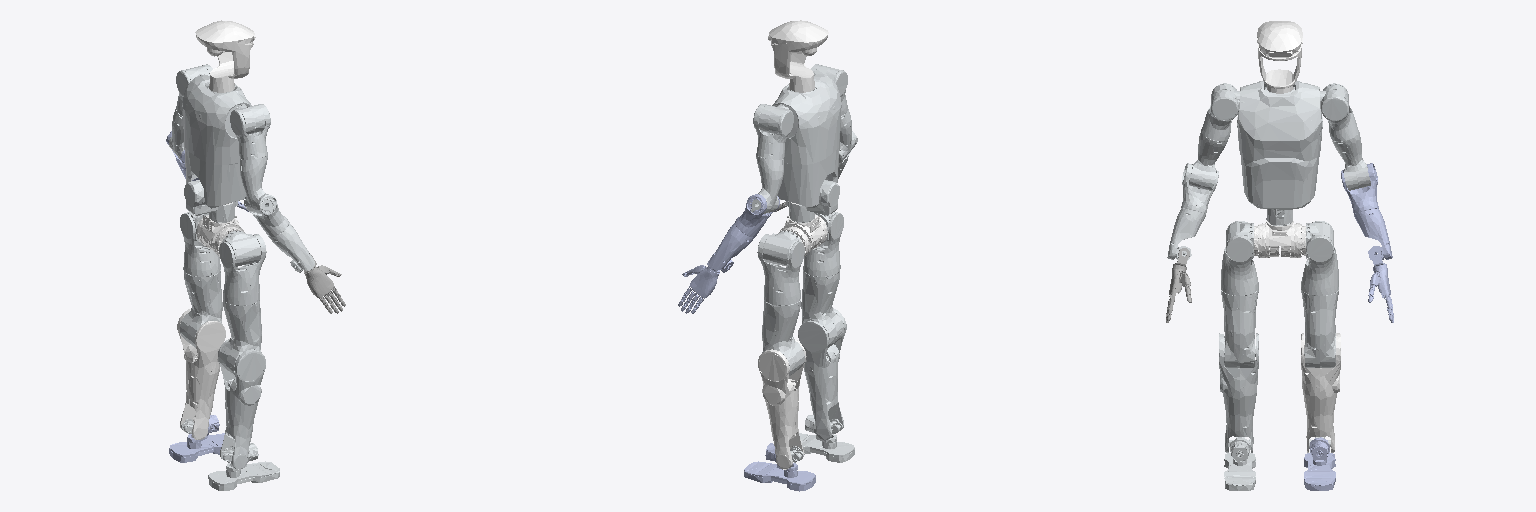
--- Render facts (derived) ---
The picture shows the robot from 3 angles, left to right: view 1: azimuth 30°, elevation 25°; view 2: azimuth 150°, elevation 25°; view 3: azimuth 270°, elevation 25°; orthographic projection.
Model T170-V2.1-A0-mass with 32 links and 31 joints (12 revolute, 19 fixed), rooted at base_link, posed every joint at zero.
Visible links, largest first — view 1: WAIST_P_S, R_KNEE_P_S, L_KNEE_P_S, NECK_Y_S, R_HIP_Y_S, L_HIP_Y_S, R_HIP_R_S, R_ANKLE_R_S, L_HIP_R_S, R_SHOULDER_R_S, L_ANKLE_R_S, R_SHOULDER_Y_S (+7 smaller); view 2: WAIST_P_S, L_KNEE_P_S, R_KNEE_P_S, NECK_Y_S, L_HIP_Y_S, R_HIP_Y_S, L_HIP_R_S, L_ANKLE_R_S, R_HIP_R_S, L_SHOULDER_R_S, R_ANKLE_R_S, L_SHOULDER_Y_S (+7 smaller); view 3: WAIST_P_S, L_KNEE_P_S, R_KNEE_P_S, NECK_Y_S, R_HIP_Y_S, L_HIP_Y_S, L_HIP_R_S, R_HIP_R_S, base_link, R_ANKLE_R_S, L_ANKLE_R_S, R_SHOULDER_R_S (+9 smaller).
Link boxes in pixels (box(x1,y1,x2,y2)): WAIST_P_S: box(182, 74, 253, 208); R_KNEE_P_S: box(218, 339, 265, 469); L_KNEE_P_S: box(177, 309, 225, 439); NECK_Y_S: box(195, 20, 255, 92); R_HIP_Y_S: box(219, 300, 261, 375); L_HIP_Y_S: box(180, 271, 222, 347); R_HIP_R_S: box(219, 234, 266, 305); R_ANKLE_R_S: box(208, 443, 279, 490); L_HIP_R_S: box(180, 213, 220, 276); R_SHOULDER_R_S: box(230, 104, 270, 159); L_ANKLE_R_S: box(169, 415, 224, 462); R_SHOULDER_Y_S: box(240, 155, 272, 213); WAIST_P_S: box(772, 74, 841, 207); L_KNEE_P_S: box(758, 339, 806, 469); R_KNEE_P_S: box(798, 308, 846, 439); NECK_Y_S: box(768, 20, 828, 92); L_HIP_Y_S: box(762, 300, 804, 375); R_HIP_Y_S: box(801, 271, 843, 347); L_HIP_R_S: box(757, 234, 804, 305); L_ANKLE_R_S: box(744, 443, 815, 491); R_HIP_R_S: box(803, 213, 843, 276); L_SHOULDER_R_S: box(753, 104, 793, 159); R_ANKLE_R_S: box(799, 415, 854, 462); L_SHOULDER_Y_S: box(750, 155, 783, 213); WAIST_P_S: box(1237, 81, 1322, 209); L_KNEE_P_S: box(1301, 333, 1340, 452); R_KNEE_P_S: box(1219, 333, 1258, 452); NECK_Y_S: box(1257, 21, 1302, 93); R_HIP_Y_S: box(1221, 290, 1258, 367); L_HIP_Y_S: box(1301, 290, 1338, 367); L_HIP_R_S: box(1301, 221, 1338, 295); R_HIP_R_S: box(1221, 221, 1258, 295); base_link: box(1254, 221, 1305, 257); R_ANKLE_R_S: box(1224, 438, 1255, 490); L_ANKLE_R_S: box(1304, 437, 1335, 490); R_SHOULDER_R_S: box(1201, 83, 1238, 141).
Size in the robot's own frame: 0.4382 by 0.7899 by 1.72 metres.
Meshes: 31 distinct files referenced, 31 mesh visuals loaded (31 binary STL).

robot.urdf — T170-V2.1-A0-mass:
<?xml version="1.0" encoding="utf-8"?>
<!-- This URDF was automatically created by SolidWorks to URDF Exporter! Originally created by Stephen Brawner ([email redacted])
     Commit Version: 1.6.0-4-g7f85cfe  Build Version: 1.6.7995.38578
     For more information, please see http://wiki.ros.org/sw_urdf_exporter -->
<robot
  name="T170-V2.1-A0-mass">
  <link
    name="base_link">
    <inertial>
              <origin
                xyz="-6.500000000000001e-05 1e-06 -0.045045"
                rpy="0 0 0" />
              <mass
                value="5.294303" />
              <inertia
                ixx="0.024433582611999998"
                ixy="1.3235e-07"
                ixz="1.4710277000000001e-05"
                iyy="0.016612578556"
                iyz="-1.68893e-07"
                izz="0.016497152209000002" />
            </inertial>
    <visual>
      <origin
        xyz="0 0 0"

        rpy="0 0 0" />
      <geometry>
        <mesh
          filename="./meshes/BASE_S.STL" />
      </geometry>
      <material
        name="">
        <color
          rgba="1 1 1 1" />
      </material>
    </visual>
    <collision>
      <origin
        xyz="0 0 -0.08"
        rpy="1.57 0 0" />
			<geometry>
				<cylinder length="0.2" radius="0.05"/>
			</geometry>
    </collision>
  </link>

  <link
    name="L_HIP_P_S">
    <inertial>
              <origin
                xyz="0.012891999999999999 0.041366999999999994 1e-06"
                rpy="0 0 0" />
              <mass
                value="1.60224" />
              <inertia
                ixx="0.002350403566"
                ixy="-7.038434699999999e-05"
                ixz="1.8192000000000002e-08"
                iyy="0.0026586781120000002"
                iyz="5.7659e-08"
                izz="0.0023079587030000004" />
            </inertial>
    <visual>
      <origin
        xyz="0 0 0"
        rpy="0 0 0" />
      <geometry>
        <mesh
          filename="./meshes/L_HIP_P_S.STL" />
      </geometry>
      <material
        name="">
        <color
          rgba="0.898039215686275 0.917647058823529 0.929411764705882 1" />
      </material>
    </visual>
    <!--<collision>
      <origin
        xyz="0 0 0"
        rpy="0 0 0" />
      <geometry>
        <mesh
          filename="./meshes/L_HIP_P_S.STL" />
      </geometry>
    </collision>-->
  </link>
  <joint
    name="L_HIP_P"
    type="revolute">
    <origin
      xyz="0 0.0945 -0.067"
      rpy="0 0 0" />
    <parent
      link="base_link" />
    <child
      link="L_HIP_P_S" />
    <axis
      xyz="0 1 0" />
    <limit
      lower="-1"
      upper="0.5"
      effort="267"
      velocity="5.76" />
  </joint>
  <link
    name="L_HIP_R_S">
    <inertial>
              <origin
                xyz="-0.052494 0.001116 -0.135556"
                rpy="0 0 0" />
              <mass
                value="2.123182" />
              <inertia
                ixx="0.007651730159"
                ixy="-1.0006102999999999e-05"
                ixz="-0.001027271998"
                iyy="0.008350014866"
                iyz="-0.00015041607399999998"
                izz="0.003346951658" />
            </inertial>
    <visual>
      <origin
        xyz="0 0 0"
        rpy="0 0 0" />
      <geometry>
        <mesh
          filename="./meshes/L_HIP_R_S.STL" />
      </geometry>
      <material
        name="">
        <color
          rgba="0.898039215686275 0.917647058823529 0.929411764705882 1" />
      </material>
    </visual>
    <!--<collision>
      <origin
        xyz="0 0 0"
        rpy="0 0 0" />
      <geometry>
        <mesh
          filename="./meshes/L_HIP_R_S.STL" />
      </geometry>
    </collision>-->
  </link>
  <joint
    name="L_HIP_R"
    type="revolute">
    <origin
      xyz="0.058 0.044 0"
      rpy="0 0 0" />
    <parent
      link="L_HIP_P_S" />
    <child
      link="L_HIP_R_S" />
    <axis
      xyz="1 0 0" />
    <limit
      lower="-0.2"
      upper="0.2"
      effort="69"
      velocity="8.06" />
  </joint>
  <link
    name="L_HIP_Y_S">
    <inertial>
              <origin
                xyz="0.001701 0.007194 -0.198857"
                rpy="0 0 0" />
              <mass
                value="3.313186" />
              <inertia
                ixx="0.017727672841"
                ixy="-6.456893699999999e-05"
                ixz="-0.000408727743"
                iyy="0.018146293801"
                iyz="-0.00033327960600000004"
                izz="0.006599402896" />
            </inertial>
    <visual>
      <origin
        xyz="0 0 0"
        rpy="0 0 0" />
      <geometry>
        <mesh
          filename="./meshes/L_HIP_Y_S.STL" />
      </geometry>
      <material
        name="">
        <color
          rgba="0.898039215686275 0.917647058823529 0.929411764705882 1" />
      </material>
    </visual>
    <collision>
      <origin
        xyz="0 0.0 -0.05"
        rpy="0 0 0" />
			<geometry>
				<cylinder length="0.2" radius="0.05"/>
			</geometry>
    </collision>
  </link>
  <joint
    name="L_HIP_Y"
    type="revolute">
    <origin
      xyz="-0.058 0 -0.1972"
      rpy="0 0 0" />
    <parent
      link="L_HIP_R_S" />
    <child
      link="L_HIP_Y_S" />
    <axis
      xyz="0 0 -1" />
    <limit
      lower="-0.1"
      upper="0.1"
      effort="121"
      velocity="6.81" />
  </joint>
  <link
    name="L_KNEE_P_S">
    <inertial>
              <origin
                xyz="0.000631 -0.043392 -0.119632"
                rpy="0 0 0" />
              <mass
                value="2.644024" />
              <inertia
                ixx="0.025178069248"
                ixy="-6.2763632e-05"
                ixz="-0.00159828665"
                iyy="0.023717199600000002"
                iyz="-0.00031968927500000005"
                izz="0.006274894778" />
            </inertial>
    <visual>
      <origin
        xyz="0 0 0"
        rpy="0 0 0" />
      <geometry>
        <mesh
          filename="./meshes/L_KNEE_P_S.STL" />
      </geometry>
      <material
        name="">
        <color
          rgba="1 1 1 1" />
      </material>
    </visual>
    <collision>
      <origin
        xyz="0 -0.05 -0.15"
        rpy="0 0 0" />
			<geometry>
				<cylinder length="0.2" radius="0.05"/>
			</geometry>
    </collision>
  </link>
  <joint
    name="L_KNEE_P"
    type="revolute">
    <origin
      xyz="0 0.057 -0.2228"
      rpy="0 0 0" />
    <parent
      link="L_HIP_Y_S" />
    <child
      link="L_KNEE_P_S" />
    <axis
      xyz="0 1 0" />
    <limit
      lower="-0.2"
      upper="1.5"
      effort="267"
      velocity="5.76" />
  </joint>
  <link
    name="L_ANKLE_P_S">
    <inertial>
              <origin
                xyz="-0.0051920000000000004 -0.003552 0.001356"
                rpy="0 0 0" />
              <mass
                value="0.208363" />
              <inertia
                ixx="0.000112416441"
                ixy="1.092665e-06"
                ixz="7.950015000000001e-06"
                iyy="7.9570327e-05"
                iyz="-2.66666e-07"
                izz="0.00015223668599999998" />
            </inertial>
    <visual>
      <origin
        xyz="0 0 0"
        rpy="0 0 0" />
      <geometry>
        <mesh
          filename="./meshes/L_ANKLE_P_S.STL" />
      </geometry>
      <material
        name="">
        <color
          rgba="0.898039215686275 0.917647058823529 0.929411764705882 1" />
      </material>
    </visual>
    <!--<collision>
      <origin
        xyz="0 0 0"
        rpy="0 0 0" />
      <geometry>
        <mesh
          filename="./meshes/L_ANKLE_P_S.STL" />
      </geometry>
    </collision>-->
  </link>
  <joint
    name="L_ANKLE_P"
    type="revolute">
    <origin
      xyz="-0.032248 -0.058 -0.36859"
      rpy="0 0 0" />
    <parent
      link="L_KNEE_P_S" />
    <child
      link="L_ANKLE_P_S" />
    <axis
      xyz="0 -1 0" />
    <limit
      lower="-0.2"
      upper="0.2"
      effort="69"
      velocity="8.06" />
  </joint>
  <link
    name="L_ANKLE_R_S">
    <inertial>
              <origin
                xyz="0.016272 2e-06 -0.054217"
                rpy="0 0 0" />
              <mass
                value="1.670521" />
              <inertia
                ixx="0.0034800322570000004"
                ixy="1.9162e-07"
                ixz="-0.000268219044"
                iyy="0.008485757659"
                iyz="1.3101000000000001e-08"
                izz="0.006910381204" />
            </inertial>
    <visual>
      <origin
        xyz="0 0 0"
        rpy="0 0 0" />
      <geometry>
        <mesh
          filename="./meshes/L_ANKLE_R_S.STL" />
      </geometry>
      <material
        name="">
        <color
          rgba="0.792156862745098 0.819607843137255 0.933333333333333 1" />
      </material>
    </visual>
    <!--<collision>
      <origin
        xyz="0 0 0"
        rpy="0 0 0" />
      <geometry>
        <mesh
          filename="./meshes/L_ANKLE_R_S.STL" />
      </geometry>
    </collision>-->

    <collision>
      <origin
        xyz="0.02 0 -0.08"
        rpy="0 0 0" />
      <geometry>
        <box size="0.24 0.11 0.03"/>
      </geometry>
    </collision>

  </link>
  <joint
    name="L_ANKLE_R"
    type="revolute">
    <origin
      xyz="0.023 0 0"
      rpy="0 0 0" />
    <parent
      link="L_ANKLE_P_S" />
    <child
      link="L_ANKLE_R_S" />
    <axis
      xyz="1 0 0" />
    <limit
      lower="-0.2"
      upper="0.2"
      effort="23"
      velocity="10.16" />
  </joint>
  <link
    name="R_HIP_P_S">
    <inertial>
              <origin
                xyz="0.012891999999999999 -0.041366999999999994 1e-06"
                rpy="0 0 0" />
              <mass
                value="1.602236" />
              <inertia
                ixx="0.002350387347"
                ixy="7.0386011e-05"
                ixz="2.08997e-07"
                iyy="0.002658669353"
                iyz="-5.7559e-08"
                izz="0.002307962669" />
            </inertial>
    <visual>
      <origin
        xyz="0 0 0"
        rpy="0 0 0" />
      <geometry>
        <mesh
          filename="./meshes/R_HIP_P_S.STL" />
      </geometry>
      <material
        name="">
        <color
          rgba="0.898039215686275 0.917647058823529 0.929411764705882 1" />
      </material>
    </visual>
    <!--<collision>
      <origin
        xyz="0 0 0"
        rpy="0 0 0" />
      <geometry>
        <mesh
          filename="./meshes/R_HIP_P_S.STL" />
      </geometry>
    </collision>-->
  </link>
  <joint
    name="R_HIP_P"
    type="revolute">
    <origin
      xyz="0 -0.0945 -0.067"
      rpy="0 0 0" />
    <parent
      link="base_link" />
    <child
      link="R_HIP_P_S" />
    <axis
      xyz="0 -1 0" />
    <limit
      lower="-0.5"
      upper="1"
      effort="267"
      velocity="5.76" />
  </joint>
  <link
    name="R_HIP_R_S">
    <inertial>
              <origin
                xyz="-0.052494 -0.001116 -0.135556"
                rpy="0 0 0" />
              <mass
                value="2.123172" />
              <inertia
                ixx="0.007651678789"
                ixy="9.966719e-06"
                ixz="-0.001027351346"
                iyy="0.008350089033"
                iyz="0.000150362603"
                izz="0.00334698021" />
            </inertial>
    <visual>
      <origin
        xyz="0 0 0"
        rpy="0 0 0" />
      <geometry>
        <mesh
          filename="./meshes/R_HIP_R_S.STL" />
      </geometry>
      <material
        name="">
        <color
          rgba="0.898039215686275 0.917647058823529 0.929411764705882 1" />
      </material>
    </visual>
    <!--<collision>
      <origin
        xyz="0 0 0"
        rpy="0 0 0" />
      <geometry>
        <mesh
          filename="./meshes/R_HIP_R_S.STL" />
      </geometry>
    </collision>-->
  </link>
  <joint
    name="R_HIP_R"
    type="revolute">
    <origin
      xyz="0.058 -0.044 0"
      rpy="0 0 0" />
    <parent
      link="R_HIP_P_S" />
    <child
      link="R_HIP_R_S" />
    <axis
      xyz="-1 0 0" />
    <limit
      lower="-0.2"
      upper="0.2"
      effort="69"
      velocity="8.06" />
  </joint>
  <link
    name="R_HIP_Y_S">
    <inertial>
              <origin
                xyz="0.001702 -0.007193 -0.198851"
                rpy="0 0 0" />
              <mass
                value="3.313288" />
              <inertia
                ixx="0.017731261837000002"
                ixy="6.415347800000001e-05"
                ixz="-0.000409299561"
                iyy="0.018149824549"
                iyz="0.000332521739"
                izz="0.006599775929" />
            </inertial>
    <visual>
      <origin
        xyz="0 0 0"
        rpy="0 0 0" />
      <geometry>
        <mesh
          filename="./meshes/R_HIP_Y_S.STL" />
      </geometry>
      <material
        name="">
        <color
          rgba="0.898039215686275 0.917647058823529 0.929411764705882 1" />
      </material>
    </visual>
    <collision>
      <origin
        xyz="0 0.0 -0.05"
        rpy="0 0 0" />
			<geometry>
				<cylinder length="0.2" radius="0.05"/>
			</geometry>
    </collision>
  </link>
  <joint
    name="R_HIP_Y"
    type="revolute">
    <origin
      xyz="-0.058 0 -0.1972"
      rpy="0 0 0" />
    <parent
      link="R_HIP_R_S" />
    <child
      link="R_HIP_Y_S" />
    <axis
      xyz="0 0 -1" />
    <limit
      lower="-0.1"
      upper="0.1"
      effort="121"
      velocity="6.81" />
  </joint>
  <link
    name="R_KNEE_P_S">
    <inertial>
              <origin
                xyz="0.0006360000000000001 0.04339 -0.119639"
                rpy="0 0 0" />
              <mass
                value="2.644373" />
              <inertia
                ixx="0.025184545238"
                ixy="6.2682668e-05"
                ixz="-0.001598721426"
                iyy="0.023724867226"
                iyz="0.000318879433"
                izz="0.006275270264" />
            </inertial>
    <visual>
      <origin
        xyz="0 0 0"
        rpy="0 0 0" />
      <geometry>
        <mesh
          filename="./meshes/R_KNEE_P_S.STL" />
      </geometry>
      <material
        name="">
        <color
          rgba="0.898039215686275 0.917647058823529 0.929411764705882 1" />
      </material>
    </visual>
    <collision>
      <origin
        xyz="0 0.05 -0.15"
        rpy="0 0 0" />
			<geometry>
				<cylinder length="0.2" radius="0.05"/>
			</geometry>
    </collision>
  </link>
  <joint
    name="R_KNEE_P"
    type="revolute">
    <origin
      xyz="0 -0.057 -0.2228"
      rpy="0 0 0" />
    <parent
      link="R_HIP_Y_S" />
    <child
      link="R_KNEE_P_S" />
    <axis
      xyz="0 -1 0" />
    <limit
      lower="-1.5"
      upper="0.2"
      effort="267"
      velocity="5.76" />
  </joint>
  <link
    name="R_ANKLE_P_S">
    <inertial>
              <origin
                xyz="-0.005285 0.0029 0.00138"
                rpy="0 0 0" />
              <mass
                value="0.20469900000000002" />
              <inertia
                ixx="0.000106648193"
                ixy="-3.86891e-07"
                ixz="7.923754e-06"
                iyy="7.7879228e-05"
                iyz="8.2406e-08"
                izz="0.00014637474900000002" />
            </inertial>
    <visual>
      <origin
        xyz="0 0 0"
        rpy="0 0 0" />
      <geometry>
        <mesh
          filename="./meshes/R_ANKLE_P_S.STL" />
      </geometry>
      <material
        name="">
        <color
          rgba="0.898039215686275 0.917647058823529 0.929411764705882 1" />
      </material>
    </visual>
    <!--<collision>
      <origin
        xyz="0 0 0"
        rpy="0 0 0" />
      <geometry>
        <mesh
          filename="./meshes/R_ANKLE_P_S.STL" />
      </geometry>
    </collision>-->
  </link>
  <joint
    name="R_ANKLE_P"
    type="revolute">
    <origin
      xyz="-0.032248 0.058 -0.36859"
      rpy="0 0 0" />
    <parent
      link="R_KNEE_P_S" />
    <child
      link="R_ANKLE_P_S" />
    <axis
      xyz="0 1 0" />
    <limit
      lower="-0.2"
      upper="0.2"
      effort="69"
      velocity="8.06" />
  </joint>
  <link
    name="R_ANKLE_R_S">
    <inertial>
              <origin
                xyz="0.016272 -2e-06 -0.054217"
                rpy="0 0 0" />
              <mass
                value="1.67052" />
              <inertia
                ixx="0.003480032579"
                ixy="-1.91673e-07"
                ixz="-0.00026821871500000004"
                iyy="0.00848575142"
                iyz="-1.399e-08"
                izz="0.00691037666" />
            </inertial>
    <visual>
      <origin
        xyz="0 0 0"
        rpy="0 0 0" />
      <geometry>
        <mesh
          filename="./meshes/R_ANKLE_R_S.STL" />
      </geometry>
      <material
        name="">
        <color
          rgba="0.898039215686275 0.917647058823529 0.929411764705882 1" />
      </material>
    </visual>
    <!--<collision>
      <origin
        xyz="0 0 0"
        rpy="0 0 0" />
      <geometry>
        <mesh
          filename="./meshes/R_ANKLE_R_S.STL" />
      </geometry>
    </collision>-->


    <collision>
      <origin
        xyz="0.02 0 -0.08"
        rpy="0 0 0" />
      <geometry>
        <box size="0.24 0.11 0.03"/>
      </geometry>
    </collision>
  </link>
  <joint
    name="R_ANKLE_R"
    type="revolute">
    <origin
      xyz="0.023 0 0"
      rpy="0 0 0" />
    <parent
      link="R_ANKLE_P_S" />
    <child
      link="R_ANKLE_R_S" />
    <axis
      xyz="1 0 0" />
    <limit
      lower="-0.2"
      upper="0.2"
      effort="23"
      velocity="10.16" />
  </joint>
  <link
    name="WAIST_Y_S">
    <inertial>
              <origin
                xyz="-0.070117 0.0 0.109774"
                rpy="0 0 0" />
              <mass
                value="1.49971" />
              <inertia
                ixx="0.002892639151"
                ixy="-6.4603e-08"
                ixz="0.0011632690249999999"
                iyy="0.005042794342"
                iyz="1.3865e-08"
                izz="0.003666403193" />
            </inertial>
    <visual>
      <origin
        xyz="0 0 0"
        rpy="0 0 0" />
      <geometry>
        <mesh
          filename="./meshes/WAIST_Y_S.STL" />
      </geometry>
      <material
        name="">
        <color
          rgba="0.898039215686275 0.917647058823529 0.929411764705882 1" />
      </material>
    </visual>
    <!--<collision>
      <origin
        xyz="0 0 0"
        rpy="0 0 0" />
      <geometry>
        <mesh
          filename="./meshes/WAIST_Y_S.STL" />
      </geometry>
    </collision>-->
  </link>
  <joint
    name="WAIST_Y"
    type="fixed">
    <origin
      xyz="0 0 0"
      rpy="0 0 0" />
    <parent
      link="base_link" />
    <child
      link="WAIST_Y_S" />
    <axis
      xyz="0 0 1" />
    <limit
      lower="-3.14"
      upper="3.14"
      effort="63"
      velocity="8.06" />
  </joint>
  <link
    name="WAIST_R_S">
    <inertial>
              <origin
                xyz="0.047638 0.0060609999999999995 0.0"
                rpy="0 0 0" />
              <mass
                value="1.3648900000000002" />
              <inertia
                ixx="0.0013838946489999999"
                ixy="-1.4820964e-05"
                ixz="1.2329e-08"
                iyy="0.001586091616"
                iyz="6.57485e-07"
                izz="0.001453676082" />
            </inertial>
    <visual>
      <origin
        xyz="0 0 0"
        rpy="0 0 0" />
      <geometry>
        <mesh
          filename="./meshes/WAIST_R_S.STL" />
      </geometry>
      <material
        name="">
        <color
          rgba="0.898039215686275 0.917647058823529 0.929411764705882 1" />
      </material>
    </visual>
    <!--<collision>
      <origin
        xyz="0 0 0"
        rpy="0 0 0" />
      <geometry>
        <mesh
          filename="./meshes/WAIST_R_S.STL" />
      </geometry>
    </collision>-->
  </link>
  <joint
    name="WAIST_R"
    type="fixed">
    <origin
      xyz="-0.0495 0 0.127"
      rpy="0 0 0" />
    <parent
      link="WAIST_Y_S" />
    <child
      link="WAIST_R_S" />
    <axis
      xyz="1 0 0" />
    <limit
      lower="-0.61"
      upper="0.61"
      effort="63"
      velocity="8.06" />
  </joint>
  <link
    name="WAIST_P_S">
    <inertial>
              <origin
                xyz="0.00211 -0.046560000000000004 0.245727"
                rpy="0 0 0" />
              <mass
                value="11.080885" />
              <inertia
                ixx="0.11949464686200001"
                ixy="-5.1488261e-05"
                ixz="0.0020396562460000003"
                iyy="0.08538231980699999"
                iyz="2.4585865000000002e-05"
                izz="0.065471635027" />
            </inertial>
    <visual>
      <origin
        xyz="0 0 0"
        rpy="0 0 0" />
      <geometry>
        <mesh
          filename="./meshes/WAIST_P_S.STL" />
      </geometry>
      <material
        name="">
        <color
          rgba="0.898039215686275 0.917647058823529 0.929411764705882 1" />
      </material>
    </visual>
    <collision>
      <origin
        xyz="0 0 0"
        rpy="0 0 0" />
      <geometry>
        <mesh
          filename="./meshes/WAIST_P_S.STL" />
      </geometry>
    </collision>
  </link>
  <joint
    name="WAIST_P"
    type="fixed">
    <origin
      xyz="0.0495 0.0465 0"
      rpy="0 0 0" />
    <parent
      link="WAIST_R_S" />
    <child
      link="WAIST_P_S" />
    <axis
      xyz="0 1 0" />
    <limit
      lower="-0.244"
      upper="0.523"
      effort="63"
      velocity="8.06" />
  </joint>
  <link
    name="L_SHOULDER_P_S">
    <inertial>
              <origin
                xyz="0.011526 0.059677999999999995 0.0"
                />
              <mass
                value="1.444881" />
              <inertia
                ixx="0.001949609421"
                ixy="-9.1641714e-05"
                ixz="3.02e-09"
                iyy="0.0015971993259999999"
                iyz="2.784e-09"
                izz="0.001979001997" />
            </inertial>
    <visual>
      <origin
        xyz="0 0 0"
        />
      <geometry>
        <mesh
          filename="./meshes/L_SHOULDER_P_S.STL" />
      </geometry>
      <material
        name="">
        <color
          rgba="0.898039215686275 0.917647058823529 0.929411764705882 1" />
      </material>
    </visual>
    <!--<collision>
      <origin
        xyz="0 0 0"
        rpy="0 0 0" />
      <geometry>
        <mesh
          filename="./meshes/L_SHOULDER_P_S.STL" />
      </geometry>
    </collision>-->
  </link>
  <joint
    name="L_SHOULDER_P"
    type="fixed">
    <origin
      xyz="0.0005 0.0775 0.336"
      />
    <parent
      link="WAIST_P_S" />
    <child
      link="L_SHOULDER_P_S" />
    <axis
      xyz="0 1 0" />
    <limit
      lower="-3.14"
      upper="3.14"
      effort="63"
      velocity="8.06" />
  </joint>
  <link
    name="L_SHOULDER_R_S">
    <inertial>
              <origin
                xyz="-0.050103 0.088587 0.000207"
                />
              <mass
                value="1.014451" />
              <inertia
                ixx="0.002349561045"
                ixy="0.000320579472"
                ixz="1.414894e-06"
                iyy="0.0011315652760000002"
                iyz="1.6244966e-05"
                izz="0.002633113913" />
            </inertial>
    <visual>
      <origin
        xyz="0 0 0"
         />
      <geometry>
        <mesh
          filename="./meshes/L_SHOULDER_R_S.STL" />
      </geometry>
      <material
        name="">
        <color
          rgba="0.898039215686275 0.917647058823529 0.929411764705882 1" />
      </material>
    </visual>
    <!--<collision>
      <origin
        xyz="0 0 0"
        rpy="0 0 0" />
      <geometry>
        <mesh
          filename="./meshes/L_SHOULDER_R_S.STL" />
      </geometry>
    </collision>-->
  </link>
  <joint
    name="L_SHOULDER_R"
    type="fixed">
    <origin
      xyz="0.054 0.066 0"
      rpy="-1.3 0 0" />
    <parent
      link="L_SHOULDER_P_S" />
    <child
      link="L_SHOULDER_R_S" />
    <axis
      xyz="1 0 0" />
    <limit
      lower="-1.57"
      upper="1.57"
      effort="63"
      velocity="8.06" />
  </joint>
  <link
    name="L_SHOULDER_Y_S">
    <inertial>
              <origin
                xyz="-0.002242 0.128183 0.013930999999999999"
                 />
              <mass
                value="1.09809" />
              <inertia
                ixx="0.0043556597410000005"
                ixy="-0.00014642066000000002"
                ixz="-2.0792439999999997e-05"
                iyy="0.001024987862"
                iyz="-0.000155152164"
                izz="0.00415956279" />
            </inertial>
    <visual>
      <origin
        xyz="0 0 0"
         />
      <geometry>
        <mesh
          filename="./meshes/L_SHOULDER_Y_S.STL" />
      </geometry>
      <material
        name="">
        <color
          rgba="0.898039215686275 0.917647058823529 0.929411764705882 1" />
      </material>
    </visual>
    <!--<collision>
      <origin
        xyz="0 0 0"
        rpy="0 0 0" />
      <geometry>
        <mesh
          filename="./meshes/L_SHOULDER_Y_S.STL" />
      </geometry>
    </collision>-->
  </link>
  <joint
    name="L_SHOULDER_Y"
    type="fixed">
    <origin
      xyz="-0.054 0.1395 0"
      />
    <parent
      link="L_SHOULDER_R_S" />
    <child
      link="L_SHOULDER_Y_S" />
    <axis
      xyz="0 1 0" />
    <limit
      lower="-3.14"
      upper="3.14"
      effort="42"
      velocity="8.59" />
  </joint>
  <link
    name="L_ELBOW_Y_S">
    <inertial>
              <origin
                xyz="-0.000772 0.079344 -0.047655"
                 />
              <mass
                value="0.71509" />
              <inertia
                ixx="0.0015319294410000002"
                ixy="-2.9833332999999998e-05"
                ixz="-1.601666e-06"
                iyy="0.0008379935259999999"
                iyz="0.00011718606699999999"
                izz="0.001338291607" />
            </inertial>
    <visual>
      <origin
        xyz="0 0 0"
         />
      <geometry>
        <mesh
          filename="./meshes/L_ELBOW_Y_S.STL" />
      </geometry>
      <material
        name="">
        <color
          rgba="0.792156862745098 0.819607843137255 0.933333333333333 1" />
      </material>
    </visual>
    <collision>
      <origin
        xyz="0 0 0"
        />
      <geometry>
        <mesh
          filename="./meshes/L_ELBOW_Y_S.STL" />
      </geometry>
    </collision>
  </link>
  <joint
    name="L_ELBOW_Y"
    type="fixed">
    <origin
      xyz="0 0.1605 0.051"
      rpy="0 0 -0.5" />
    <parent
      link="L_SHOULDER_Y_S" />
    <child
      link="L_ELBOW_Y_S" />
    <axis
      xyz="0 0 1" />
    <limit
      lower="-2.4"
      upper="0.87"
      effort="42"
      velocity="8.59" />
  </joint>
  <link
    name="L_WRIST_P_S">
    <inertial>
              <origin
                xyz="-2e-05 0.051770000000000004 0.015054"
                 />
              <mass
                value="0.787608" />
              <inertia
                ixx="0.0018731701289999999"
                ixy="2.748841e-06"
                ixz="3.4995299999999996e-07"
                iyy="0.000729715644"
                iyz="-0.000416873988"
                izz="0.001676076534" />
            </inertial>
    <visual>
      <origin
        xyz="0 0 0"
        />
      <geometry>
        <mesh
          filename="./meshes/L_WRIST_P_S.STL" />
      </geometry>
      <material
        name="">
        <color
          rgba="0.792156862745098 0.819607843137255 0.933333333333333 1" />
      </material>
    </visual>
    <!--<collision>
      <origin
        xyz="0 0 0"
        rpy="0 0 0" />
      <geometry>
        <mesh
          filename="./meshes/L_WRIST_P_S.STL" />
      </geometry>
    </collision>-->
  </link>
  <joint
    name="L_WRIST_P"
    type="fixed">
    <origin
      xyz="0 0.1281 -0.051"
      />
    <parent
      link="L_ELBOW_Y_S" />
    <child
      link="L_WRIST_P_S" />
    <axis
      xyz="0 1 0" />
    <limit
      lower="-3.14"
      upper="3.14"
      effort="23"
      velocity="10.16" />
  </joint>
  <link
    name="L_WRIST_Y_S">
    <inertial>
              <origin
                xyz="-0.0007840000000000001 0.00022600000000000002 -0.037801"
                 />
              <mass
                value="0.38146199999999997" />
              <inertia
                ixx="0.000182718093"
                ixy="1.6518999999999999e-07"
                ixz="-9.57867e-07"
                iyy="0.00021651213"
                iyz="-4.338e-08"
                izz="0.000172529454" />
            </inertial>
    <visual>
      <origin
        xyz="0 0 0"
        />
      <geometry>
        <mesh
          filename="./meshes/L_WRIST_Y_S.STL" />
      </geometry>
      <material
        name="">
        <color
          rgba="0.792156862745098 0.819607843137255 0.933333333333333 1" />
      </material>
    </visual>
    <!--<collision>
      <origin
        xyz="0 0 0"
        rpy="0 0 0" />
      <geometry>
        <mesh
          filename="./meshes/L_WRIST_Y_S.STL" />
      </geometry>
    </collision>-->
  </link>
  <joint
    name="L_WRIST_Y"
    type="fixed">
    <origin
      xyz="9.0984E-05 0.14468 0.0425"
       />
    <parent
      link="L_WRIST_P_S" />
    <child
      link="L_WRIST_Y_S" />
    <axis
      xyz="0 0 1" />
    <limit
      lower="-0.69"
      upper="0.69"
      effort="8.3"
      velocity="12.36" />
  </joint>
  <link
    name="L_WRIST_R_S">
    <inertial>
              <origin
                xyz="-0.011640000000000001 0.118483 -0.0036030000000000003"
                />
              <mass
                value="0.553221" />
              <inertia
                ixx="0.001536982549"
                ixy="8.1942823e-05"
                ixz="0.000146124869"
                iyy="0.000603820302"
                iyz="4.045243e-06"
                izz="0.001875863069" />
            </inertial>
    <visual>
      <origin
        xyz="0 0 0"
         />
      <geometry>
        <mesh
          filename="./meshes/L_WRIST_R_S.STL" />
      </geometry>
      <material
        name="">
        <color
          rgba="0.792156862745098 0.819607843137255 0.933333333333333 1" />
      </material>
    </visual>
    <!--<collision>
      <origin
        xyz="0 0 0"
        rpy="0 0 0" />
      <geometry>
        <mesh
          filename="./meshes/L_WRIST_R_S.STL" />
      </geometry>
    </collision>-->

    <collision>
      <origin
        xyz="0 0.2 0"
        />
      <geometry>
        <box size="0.08 0.1 0.05"/>
      </geometry>
    </collision>

  </link>
  <joint
    name="L_WRIST_R"
    type="fixed">
    <origin
      xyz="0.030909 0.00022307 -0.0415"
      rpy="0 0 0" />
    <parent
      link="L_WRIST_Y_S" />
    <child
      link="L_WRIST_R_S" />
    <axis
      xyz="1 0 0" />
    <limit
      lower="-2.35"
      upper="0.348"
      effort="8.3"
      velocity="12.36" />
  </joint>
  <link
    name="R_SHOULDER_P_S">
    <inertial>
              <origin
                xyz="0.010619 -0.059179 0"
                />
              <mass
                value="1.4546679999999999" />
              <inertia
                ixx="0.001954186556"
                ixy="8.813481600000001e-05"
                ixz="-5.440000000000001e-10"
                iyy="0.0016309633759999998"
                iyz="1.352e-09"
                izz="0.002013157615" />
            </inertial>
    <visual>
      <origin
        xyz="0 0 0"
        />
      <geometry>
        <mesh
          filename="./meshes/R_SHOULDER_P_S.STL" />
      </geometry>
      <material
        name="">
        <color
          rgba="0.898039215686275 0.917647058823529 0.929411764705882 1" />
      </material>
    </visual>
    <!--<collision>
      <origin
        xyz="0 0 0"
        rpy="0 0 0" />
      <geometry>
        <mesh
          filename="./meshes/R_SHOULDER_P_S.STL" />
      </geometry>
    </collision>-->
  </link>
  <joint
    name="R_SHOULDER_P"
    type="fixed">
    <origin
      xyz="0.0005 -0.1705 0.336"
       />
    <parent
      link="WAIST_P_S" />
    <child
      link="R_SHOULDER_P_S" />
    <axis
      xyz="0 1 0" />
    <limit
      lower="-3.14"
      upper="3.14"
      effort="63"
      velocity="8.06" />
  </joint>
  <link
    name="R_SHOULDER_R_S">
    <inertial>
              <origin
                xyz="-0.046824 -0.072798 0.000381"
                />
              <mass
                value="1.014496" />
              <inertia
                ixx="0.002349644494"
                ixy="-0.000320589934"
                ixz="1.437102e-06"
                iyy="0.001131637812"
                iyz="-1.6236977e-05"
                izz="0.002633199673" />
            </inertial>
    <visual>
      <origin
        xyz="0 0 0"
        />
      <geometry>
        <mesh
          filename="./meshes/R_SHOULDER_R_S.STL" />
      </geometry>
      <material
        name="">
        <color
          rgba="0.898039215686275 0.917647058823529 0.929411764705882 1" />
      </material>
    </visual>
    <!--<collision>
      <origin
        xyz="0 0 0"
        rpy="0 0 0" />
      <geometry>
        <mesh
          filename="./meshes/R_SHOULDER_R_S.STL" />
      </geometry>
    </collision>-->
  </link>
  <joint
    name="R_SHOULDER_R"
    type="fixed">
    <origin
      xyz="0.054 -0.066 0"
      rpy="1.3 0 0" />
    <parent
      link="R_SHOULDER_P_S" />
    <child
      link="R_SHOULDER_R_S" />
    <axis
      xyz="1 0 0" />
    <limit
      lower="-1.57"
      upper="1.57"
      effort="63"
      velocity="8.06" />
  </joint>
  <link
    name="R_SHOULDER_Y_S">
    <inertial>
              <origin
                xyz="-0.003882 -0.10458 0.010336"
                 />
              <mass
                value="1.098095" />
              <inertia
                ixx="0.004355094775"
                ixy="0.00014650948800000002"
                ixz="-2.0837701e-05"
                iyy="0.00102492432"
                iyz="0.00015511217300000002"
                izz="0.004159196881" />
            </inertial>
    <visual>
      <origin
        xyz="0 0 0"
         />
      <geometry>
        <mesh
          filename="./meshes/R_SHOULDER_Y_S.STL" />
      </geometry>
      <material
        name="">
        <color
          rgba="0.898039215686275 0.917647058823529 0.929411764705882 1" />
      </material>
    </visual>
    <!--<collision>
      <origin
        xyz="0 0 0"
        rpy="0 0 0" />
      <geometry>
        <mesh
          filename="./meshes/R_SHOULDER_Y_S.STL" />
      </geometry>
    </collision>-->
  </link>
  <joint
    name="R_SHOULDER_Y"
    type="fixed">
    <origin
      xyz="-0.054 -0.1395 0"
       />
    <parent
      link="R_SHOULDER_R_S" />
    <child
      link="R_SHOULDER_Y_S" />
    <axis
      xyz="0 1 0" />
    <limit
      lower="-3.14"
      upper="3.14"
      effort="42"
      velocity="8.59" />
  </joint>
  <link
    name="R_ELBOW_Y_S">
    <inertial>
              <origin
                xyz="-0.000784 -0.079077 -0.047592"
                 />
              <mass
                value="0.71504" />
              <inertia
                ixx="0.0015318807949999999"
                ixy="2.9772111e-05"
                ixz="-1.560932e-06"
                iyy="0.000837959623"
                iyz="-0.000117236974"
                izz="0.0013381406899999999" />
            </inertial>
    <visual>
      <origin
        xyz="0 0 0"
        />
      <geometry>
        <mesh
          filename="./meshes/R_ELBOW_Y_S.STL" />
      </geometry>
      <material
        name="">
        <color
          rgba="0.898039215686275 0.917647058823529 0.929411764705882 1" />
      </material>
    </visual>
    <collision>
      <origin
        xyz="0 0 0"
         />
      <geometry>
        <mesh
          filename="./meshes/R_ELBOW_Y_S.STL" />
      </geometry>
    </collision>
  </link>
  <joint
    name="R_ELBOW_Y"
    type="fixed">
    <origin
      xyz="0 -0.1605 0.051"
      rpy="0 0 0.5" />
    <parent
      link="R_SHOULDER_Y_S" />
    <child
      link="R_ELBOW_Y_S" />
    <axis
      xyz="0 0 1" />
    <limit
      lower="-0.87"
      upper="2.4"
      effort="42"
      velocity="8.59" />
  </joint>
  <link
    name="R_WRIST_P_S">
    <inertial>
              <origin
                xyz="0 -0.051437 0.014735"
                />
              <mass
                value="0.7868890000000001" />
              <inertia
                ixx="0.001872273263"
                ixy="-3.080441e-06"
                ixz="2.88905e-07"
                iyy="0.000729272968"
                iyz="0.000417065446"
                izz="0.001675513763" />
            </inertial>
    <visual>
      <origin
        xyz="0 0 0"
        />
      <geometry>
        <mesh
          filename="./meshes/R_WRIST_P_S.STL" />
      </geometry>
      <material
        name="">
        <color
          rgba="0.898039215686275 0.917647058823529 0.929411764705882 1" />
      </material>
    </visual>
    <!--<collision>
      <origin
        xyz="0 0 0"
        rpy="0 0 0" />
      <geometry>
        <mesh
          filename="./meshes/R_WRIST_P_S.STL" />
      </geometry>
    </collision>-->
  </link>
  <joint
    name="R_WRIST_P"
    type="fixed">
    <origin
      xyz="0 -0.1281 -0.051"
       />
    <parent
      link="R_ELBOW_Y_S" />
    <child
      link="R_WRIST_P_S" />
    <axis
      xyz="0 1 0" />
    <limit
      lower="-3.14"
      upper="3.14"
      effort="23"
      velocity="10.16" />
  </joint>
  <link
    name="R_WRIST_Y_S">
    <inertial>
              <origin
                xyz="-0.000915 -0.000224 -0.039334"
                />
              <mass
                value="0.38146199999999997" />
              <inertia
                ixx="0.000182718093"
                ixy="-1.6518999999999999e-07"
                ixz="-9.57867e-07"
                iyy="0.00021651213"
                iyz="4.338e-08"
                izz="0.000172529454" />
            </inertial>
    <visual>
      <origin
        xyz="0 0 0"
        />
      <geometry>
        <mesh
          filename="./meshes/R_WRIST_Y_S.STL" />
      </geometry>
      <material
        name="">
        <color
          rgba="0.898039215686275 0.917647058823529 0.929411764705882 1" />
      </material>
    </visual>
    <!--<collision>
      <origin
        xyz="0 0 0"
        rpy="0 0 0" />
      <geometry>
        <mesh
          filename="./meshes/R_WRIST_Y_S.STL" />
      </geometry>
    </collision>-->
  </link>
  <joint
    name="R_WRIST_Y"
    type="fixed">
    <origin
      xyz="9.0984E-05 -0.14468 0.0425"
       />
    <parent
      link="R_WRIST_P_S" />
    <child
      link="R_WRIST_Y_S" />
    <axis
      xyz="0 0 1" />
    <limit
      lower="-0.69"
      upper="0.69"
      effort="8.3"
      velocity="12.36" />
  </joint>
  <link
    name="R_WRIST_R_S">
    <inertial>
              <origin
                xyz="-0.011723 -0.118518 -0.002744"
                />
              <mass
                value="0.553221" />
              <inertia
                ixx="0.001538629013"
                ixy="-8.0720572e-05"
                ixz="0.000152285311"
                iyy="0.0006011281409999999"
                iyz="6.235099e-06"
                izz="0.001871429419" />
            </inertial>
    <visual>
      <origin
        xyz="0 0 0"
       />
      <geometry>
        <mesh
          filename="./meshes/R_WRIST_R_S.STL" />
      </geometry>
      <material
        name="">
        <color
          rgba="0.752941176470588 0.752941176470588 0.752941176470588 1" />
      </material>
    </visual>
    <!--<collision>
      <origin
        xyz="0 0 0"
        rpy="0 0 0" />
      <geometry>
        <mesh
          filename="./meshes/R_WRIST_R_S.STL" />
      </geometry>
    </collision>-->

    <collision>
      <origin
        xyz="0 -0.2 0"
        />
      <geometry>
        <box size="0.08 0.1 0.05"/>
      </geometry>
    </collision>

  </link>
  <joint
    name="R_WRIST_R"
    type="fixed">
    <origin
      xyz="0.030909 -0.00022307 -0.0415"
       />
    <parent
      link="R_WRIST_Y_S" />
    <child
      link="R_WRIST_R_S" />
    <axis
      xyz="1 0 0" />
    <limit
      lower="-0.348"
      upper="2.35"
      effort="8.3"
      velocity="12.36" />
  </joint>
  <link
    name="NECK_Y_S">
    <inertial>
              <origin
                xyz="0.0261 0.00014000000000000001 0.18196700000000002"
                rpy="0 0 0" />
              <mass
                value="2.50061" />
              <inertia
                ixx="0.014941218582000001"
                ixy="-2.5312678e-05"
                ixz="-8.0248209e-05"
                iyy="0.017071265236000003"
                iyz="-8.818254e-06"
                izz="0.009101680967" />
            </inertial>
    <visual>
      <origin
        xyz="0 0 0"
        rpy="0 0 0" />
      <geometry>
        <mesh
          filename="./meshes/NECK_Y_S.STL" />
      </geometry>
      <material
        name="">
        <color
          rgba="1 1 1 1" />
      </material>
    </visual>
    <!--<collision>
      <origin
        xyz="0 0 0"
        rpy="0 0 0" />
      <geometry>
        <mesh
          filename="./meshes/NECK_Y_S.STL" />
      </geometry>
    </collision>-->
  </link>
  <joint
    name="NECK_Y"
    type="fixed">
    <origin
      xyz="0.0005 -0.0465 0.365"
      rpy="0 0 0" />
    <parent
      link="WAIST_P_S" />
    <child
      link="NECK_Y_S" />
    <axis
      xyz="0 0 1" />
    <limit
      lower="-3.14"
      upper="3.14"
      effort="8.3"
      velocity="12.36" />
  </joint>


  <joint name="base_imu_joint" type="fixed">
    <origin rpy="0. 0. 0." xyz="0.05 0. 0" />
    <parent link="base_link" />
    <child link="base_imu" />
  </joint>
  <!-- Imu link -->
  <link name="base_imu">
    <inertial>
      <mass value="0.01" />
      <origin rpy="0 0 0" xyz="0 0 0" />
      <inertia ixx="0.000001" ixy="0" ixz="0" iyy="0.000001" iyz="0" izz="0.000001" />
    </inertial>
    <visual>
      <origin rpy="0 0 0" xyz="0 0 0" />
      <geometry>
        <box size="0.015 0.015 0.004" />
      </geometry>
    </visual>
    <material name="orange">
      <color rgba="255 108 10 255" />
    </material>
  </link>

  <!-- ros2控制器 -->
  <ros2_control name="t170robot" type="system">
    <hardware>
      <plugin>ros2_control_t170/RobotSystem</plugin>
    </hardware>
<!-- 右腿 -->
    <joint name="R_HIP_P">
      <command_interface name="position"/>
      <command_interface name="velocity"/>
      <command_interface name="effort"/>
      <state_interface name="position"/>
      <state_interface name="velocity"/>
      <state_interface name="effort"/>
    </joint>
    <joint name="R_HIP_R">
      <command_interface name="position"/>
      <command_interface name="velocity"/>
      <command_interface name="effort"/>
      <state_interface name="position"/>
      <state_interface name="velocity"/>
      <state_interface name="effort"/>
    </joint>
    <joint name="R_HIP_Y">
      <command_interface name="position"/>
      <command_interface name="velocity"/>
      <command_interface name="effort"/>
      <state_interface name="position"/>
      <state_interface name="velocity"/>
      <state_interface name="effort"/>
    </joint>
    <joint name="R_KNEE_P">
      <command_interface name="position"/>
      <command_interface name="velocity"/>
      <command_interface name="effort"/>
      <state_interface name="position"/>
      <state_interface name="velocity"/>
      <state_interface name="effort"/>
    </joint>
    <joint name="R_ANKLE_P">
      <command_interface name="position"/>
      <command_interface name="velocity"/>
      <command_interface name="effort"/>
      <state_interface name="position"/>
      <state_interface name="velocity"/>
      <state_interface name="effort"/>
    </joint>
    <joint name="R_ANKLE_R">
      <command_interface name="position"/>
      <command_interface name="velocity"/>
      <command_interface name="effort"/>
      <state_interface name="position"/>
      <state_interface name="velocity"/>
      <state_interface name="effort"/>
    </joint>
    <!-- 左腿 -->
    <joint name="L_HIP_P">
      <command_interface name="position"/>
      <command_interface name="velocity"/>
      <command_interface name="effort"/>
      <state_interface name="position"/>
      <state_interface name="velocity"/>
      <state_interface name="effort"/>
    </joint>
    <joint name="L_HIP_R">
      <command_interface name="position"/>
      <command_interface name="velocity"/>
      <command_interface name="effort"/>
      <state_interface name="position"/>
      <state_interface name="velocity"/>
      <state_interface name="effort"/>
    </joint>
    <joint name="L_HIP_Y">
      <command_interface name="position"/>
      <command_interface name="velocity"/>
      <command_interface name="effort"/>
      <state_interface name="position"/>
      <state_interface name="velocity"/>
      <state_interface name="effort"/>
    </joint>
    <joint name="L_KNEE_P">
      <command_interface name="position"/>
      <command_interface name="velocity"/>
      <command_interface name="effort"/>
      <state_interface name="position"/>
      <state_interface name="velocity"/>
      <state_interface name="effort"/>
    </joint>
    <joint name="L_ANKLE_P">
      <command_interface name="position"/>
      <command_interface name="velocity"/>
      <command_interface name="effort"/>
      <state_interface name="position"/>
      <state_interface name="velocity"/>
      <state_interface name="effort"/>
    </joint>
    <joint name="L_ANKLE_R">
      <command_interface name="position"/>
      <command_interface name="velocity"/>
      <command_interface name="effort"/>
      <state_interface name="position"/>
      <state_interface name="velocity"/>
      <state_interface name="effort"/>
    </joint>
    <!-- 腰部 -->
    <joint name="WAIST_Y">
      <command_interface name="position"/>
      <command_interface name="velocity"/>
      <command_interface name="effort"/>
      <state_interface name="position"/>
      <state_interface name="velocity"/>
      <state_interface name="effort"/>
    </joint>
    <joint name="WAIST_P">
      <command_interface name="position"/>
      <command_interface name="velocity"/>
      <command_interface name="effort"/>
      <state_interface name="position"/>
      <state_interface name="velocity"/>
      <state_interface name="effort"/>
    </joint>
    <joint name="WAIST_R">
      <command_interface name="position"/>
      <command_interface name="velocity"/>
      <command_interface name="effort"/>
      <state_interface name="position"/>
      <state_interface name="velocity"/>
      <state_interface name="effort"/>
    </joint>
    <!-- 右臂 -->
    <joint name="R_SHOULDER_P">
      <command_interface name="position"/>
      <command_interface name="velocity"/>
      <command_interface name="effort"/>
      <state_interface name="position"/>
      <state_interface name="velocity"/>
      <state_interface name="effort"/>
    </joint>
    <joint name="R_SHOULDER_R">
        <command_interface name="position"/>
        <command_interface name="velocity"/>
        <command_interface name="effort"/>
        <state_interface name="position"/>
        <state_interface name="velocity"/>
        <state_interface name="effort"/>
    </joint>

    <joint name="R_SHOULDER_Y">
        <command_interface name="position"/>
        <command_interface name="velocity"/>
        <command_interface name="effort"/>
        <state_interface name="position"/>
        <state_interface name="velocity"/>
        <state_interface name="effort"/>
    </joint>

    <joint name="R_ELBOW_Y">
        <command_interface name="position"/>
        <command_interface name="velocity"/>
        <command_interface name="effort"/>
        <state_interface name="position"/>
        <state_interface name="velocity"/>
        <state_interface name="effort"/>
    </joint>
    <joint name="R_WRIST_P">
        <command_interface name="position"/>
        <command_interface name="velocity"/>
        <command_interface name="effort"/>
        <state_interface name="position"/>
        <state_interface name="velocity"/>
        <state_interface name="effort"/>
    </joint>
    <joint name="R_WRIST_Y">
        <command_interface name="position"/>
        <command_interface name="velocity"/>
        <command_interface name="effort"/>
        <state_interface name="position"/>
        <state_interface name="velocity"/>
        <state_interface name="effort"/>
    </joint>
    <joint name="R_WRIST_R">
        <command_interface name="position"/>
        <command_interface name="velocity"/>
        <command_interface name="effort"/>
        <state_interface name="position"/>
        <state_interface name="velocity"/>
        <state_interface name="effort"/>
    </joint>
        <!-- 左臂 -->
    <joint name="L_SHOULDER_P">
      <command_interface name="position"/>
      <command_interface name="velocity"/>
      <command_interface name="effort"/>
      <state_interface name="position"/>
      <state_interface name="velocity"/>
      <state_interface name="effort"/>
    </joint>
    <joint name="L_SHOULDER_R">
        <command_interface name="position"/>
        <command_interface name="velocity"/>
        <command_interface name="effort"/>
        <state_interface name="position"/>
        <state_interface name="velocity"/>
        <state_interface name="effort"/>
    </joint>

    <joint name="L_SHOULDER_Y">
        <command_interface name="position"/>
        <command_interface name="velocity"/>
        <command_interface name="effort"/>
        <state_interface name="position"/>
        <state_interface name="velocity"/>
        <state_interface name="effort"/>
    </joint>
    <joint name="L_ELBOW_Y">
        <command_interface name="position"/>
        <command_interface name="velocity"/>
        <command_interface name="effort"/>
        <state_interface name="position"/>
        <state_interface name="velocity"/>
        <state_interface name="effort"/>
    </joint>
    <joint name="L_WRIST_P">
        <command_interface name="position"/>
        <command_interface name="velocity"/>
        <command_interface name="effort"/>
        <state_interface name="position"/>
        <state_interface name="velocity"/>
        <state_interface name="effort"/>
    </joint>
    <joint name="L_WRIST_Y">
        <command_interface name="position"/>
        <command_interface name="velocity"/>
        <command_interface name="effort"/>
        <state_interface name="position"/>
        <state_interface name="velocity"/>
        <state_interface name="effort"/>
    </joint>
    <joint name="L_WRIST_R">
        <command_interface name="position"/>
        <command_interface name="velocity"/>
        <command_interface name="effort"/>
        <state_interface name="position"/>
        <state_interface name="velocity"/>
        <state_interface name="effort"/>
    </joint>
  </ros2_control>
</robot>
